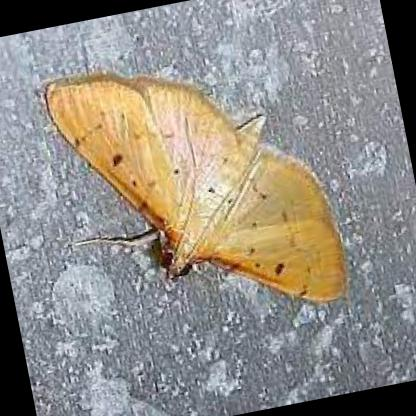Leaf Webber: (44, 73, 352, 305)
